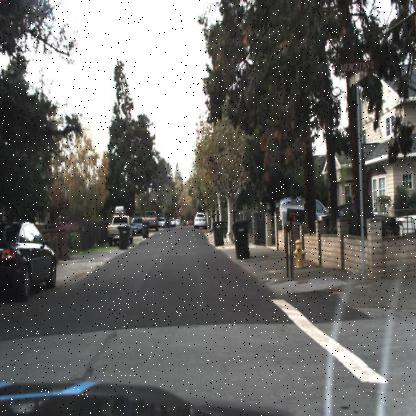car: (305, 194, 406, 246), (0, 216, 60, 301), (252, 190, 308, 226), (100, 209, 132, 253), (192, 206, 209, 232), (130, 213, 146, 240), (129, 214, 147, 238), (145, 210, 160, 233), (156, 213, 168, 229), (173, 215, 180, 227), (168, 218, 176, 226)
